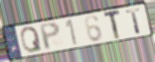1: (65, 18, 79, 46)
6: (84, 14, 104, 43)
P: (38, 21, 62, 52)
Q: (20, 26, 44, 54)
T: (103, 8, 122, 41), (125, 7, 142, 35)
